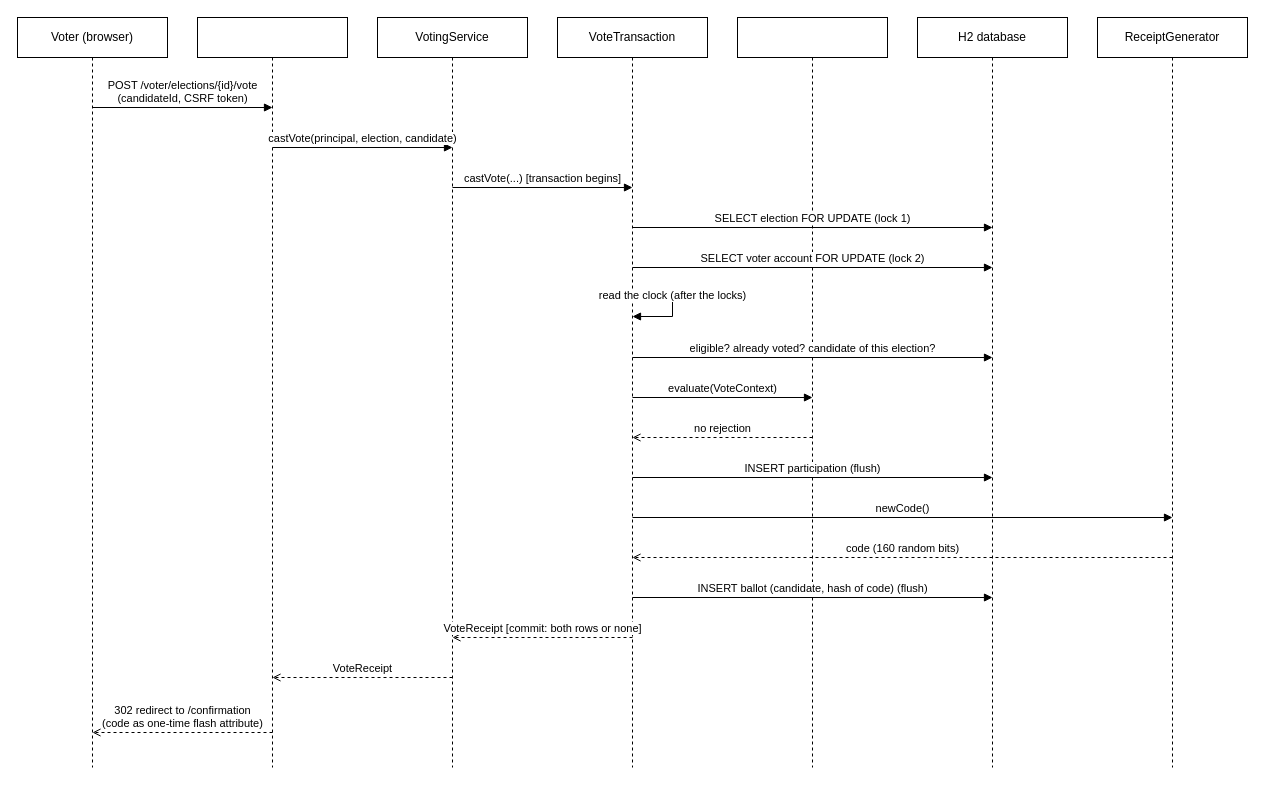
The diagram is 1265 pixels wide and 785 high, and some of its shapes have lost their labels. The shapes that lost their labels are listed below. From the top down, each one's box as (x1, y1, x2, y2) in pixels, then its label:
(196, 16, 348, 768): VoterController
(736, 16, 888, 768): VotingPolicy
